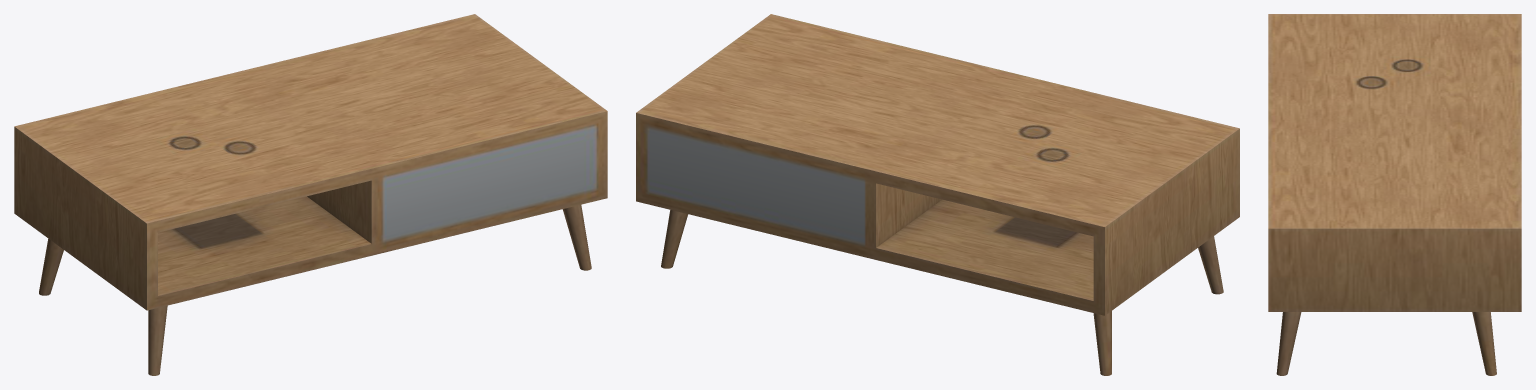
File: coffee_table_dailyart.glb
3 views of the same model, side by side, from view 1: azimuth 30°, elevation 25°; view 2: azimuth 150°, elevation 25°; view 3: azimuth 270°, elevation 25° (orthographic). The views are drawn at different scales.
Visible parts, largest first — view 1: Object_6; view 2: Object_6; view 3: Object_6.
Boxes of the visible parts, box(x1,y1,x2,y2) form: Object_6: box(14, 14, 607, 375); Object_6: box(636, 14, 1239, 375); Object_6: box(1268, 14, 1521, 375).
Bounding box in the file's own units: 120 × 39.53 × 59.85.
1 material, 1 textured.
